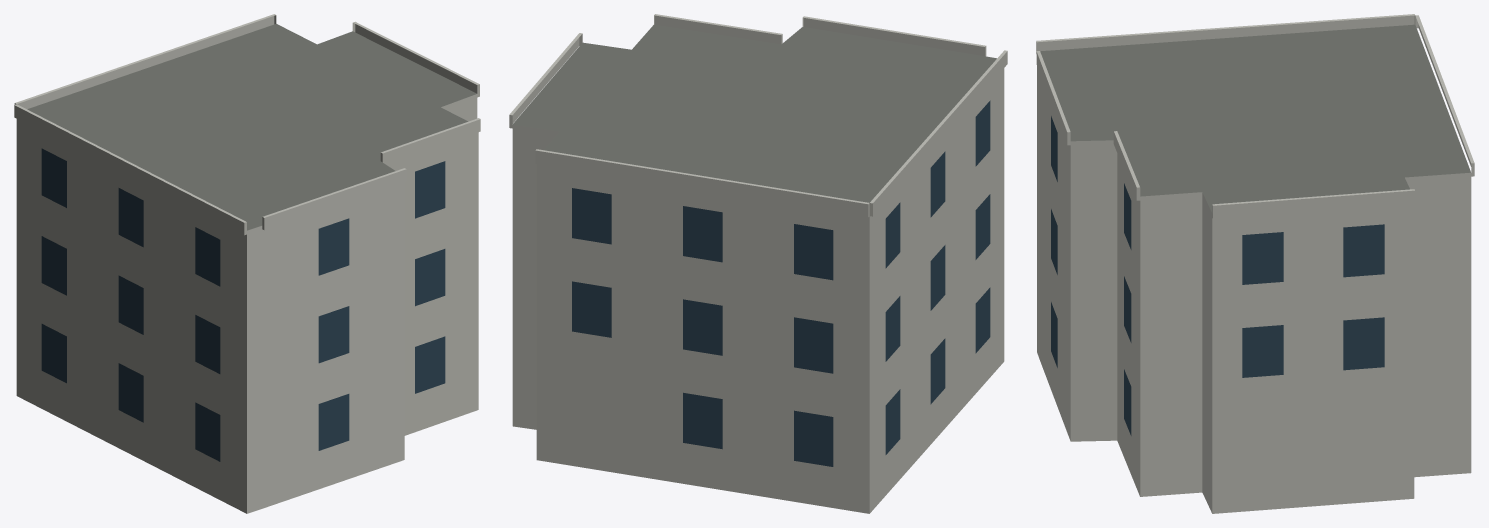
The picture shows the model from 3 angles, left to right: view 1: azimuth 30°, elevation 25°; view 2: azimuth 150°, elevation 25°; view 3: azimuth 270°, elevation 25°; orthographic projection. The views are drawn at different scales.
Visible parts, largest first — view 1: Footprint 0 / surface 2, Footprint 0 / surface 1, Inset glazing, Facade bay volumes; view 2: Footprint 0 / surface 2, Footprint 0 / surface 1, Inset glazing, Facade bay volumes; view 3: Footprint 0 / surface 2, Footprint 0 / surface 1, Inset glazing, Facade bay volumes.
Part boxes in pixels (left/top/right/bottom): Footprint 0 / surface 2: left=16, top=94, right=478, bottom=513; Footprint 0 / surface 1: left=27, top=24, right=476, bottom=230; Inset glazing: left=41, top=148, right=445, bottom=461; Facade bay volumes: left=14, top=14, right=480, bottom=235; Footprint 0 / surface 2: left=512, top=68, right=1004, bottom=513; Footprint 0 / surface 1: left=513, top=24, right=996, bottom=202; Inset glazing: left=572, top=100, right=990, bottom=466; Facade bay volumes: left=509, top=14, right=1007, bottom=217; Footprint 0 / surface 2: left=1037, top=66, right=1471, bottom=513; Footprint 0 / surface 1: left=1040, top=24, right=1470, bottom=212; Inset glazing: left=1051, top=116, right=1384, bottom=435; Facade bay volumes: left=1036, top=14, right=1474, bottom=218.
Bounding box in the file's own units: 15.66 × 11.79 × 15.13.
